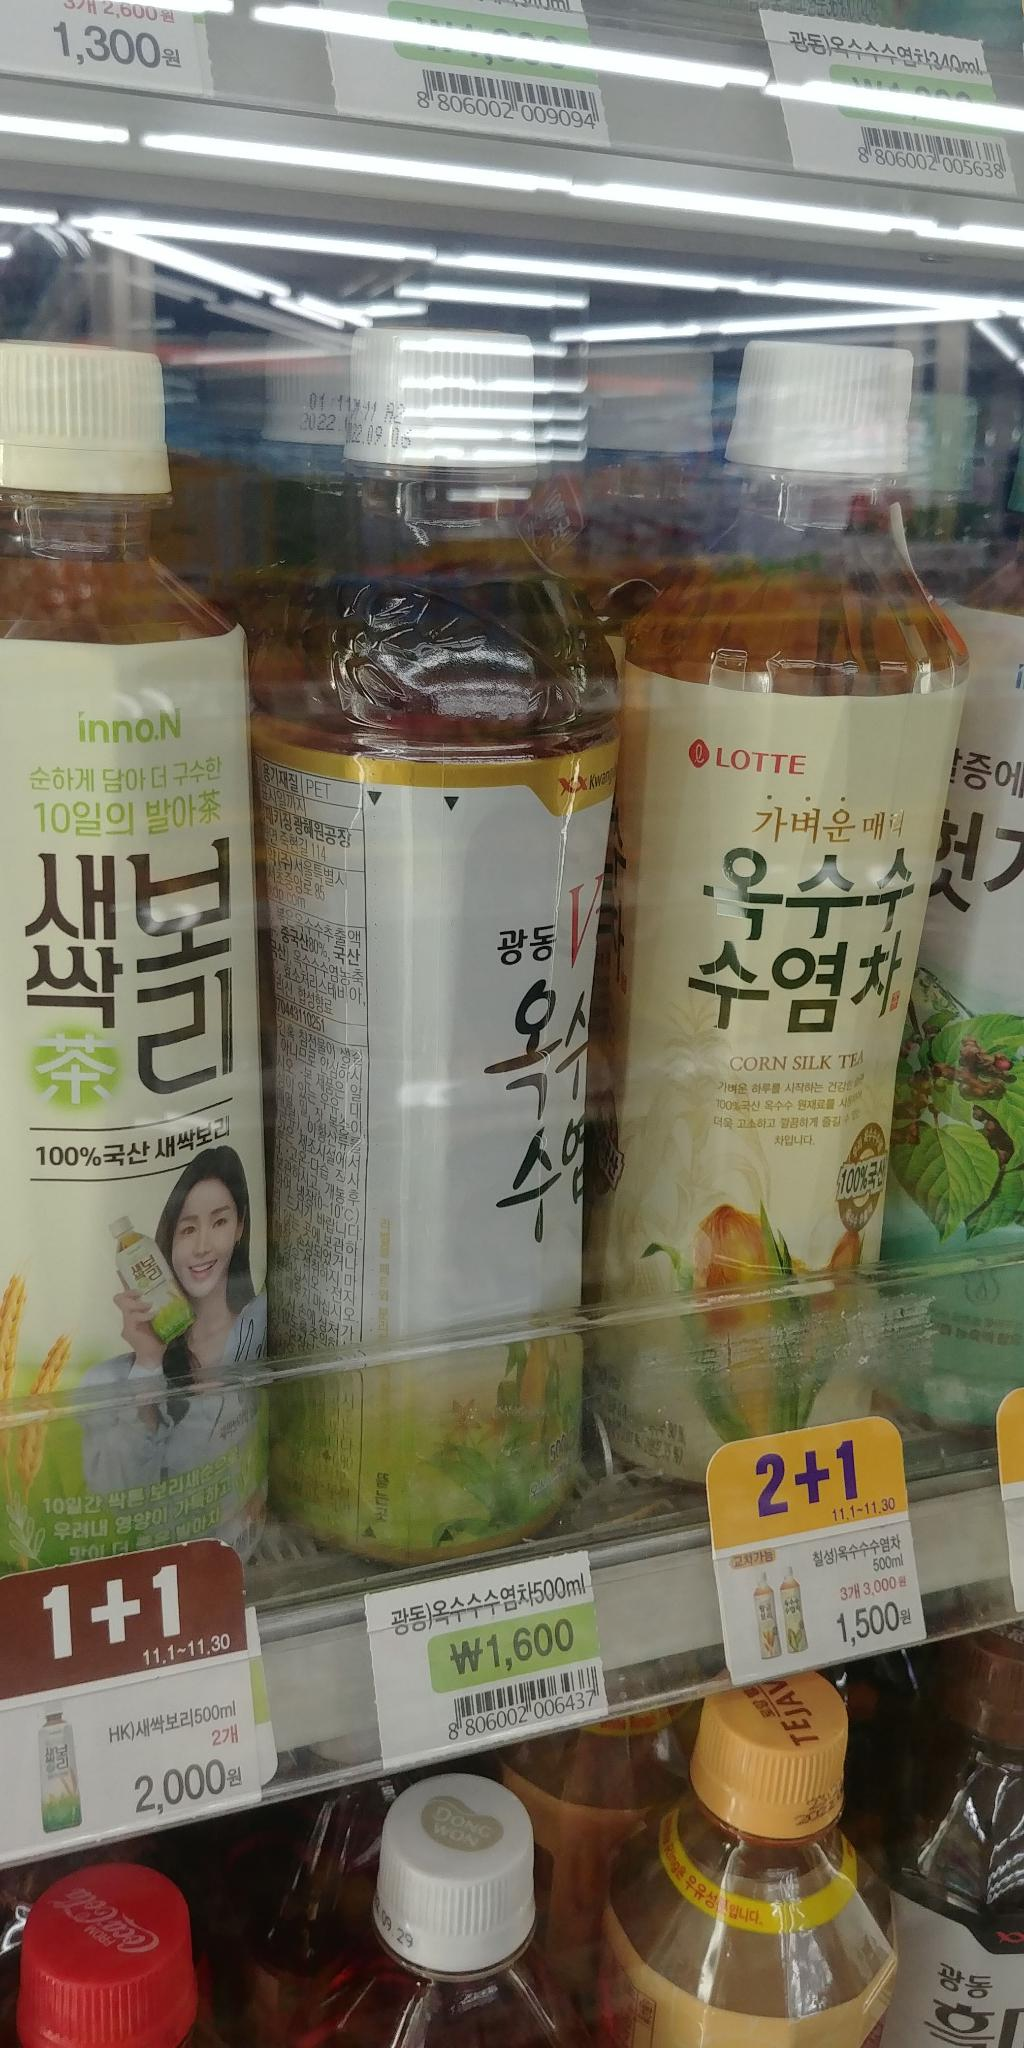oksususuyeomcha: (239, 281, 615, 1557)
